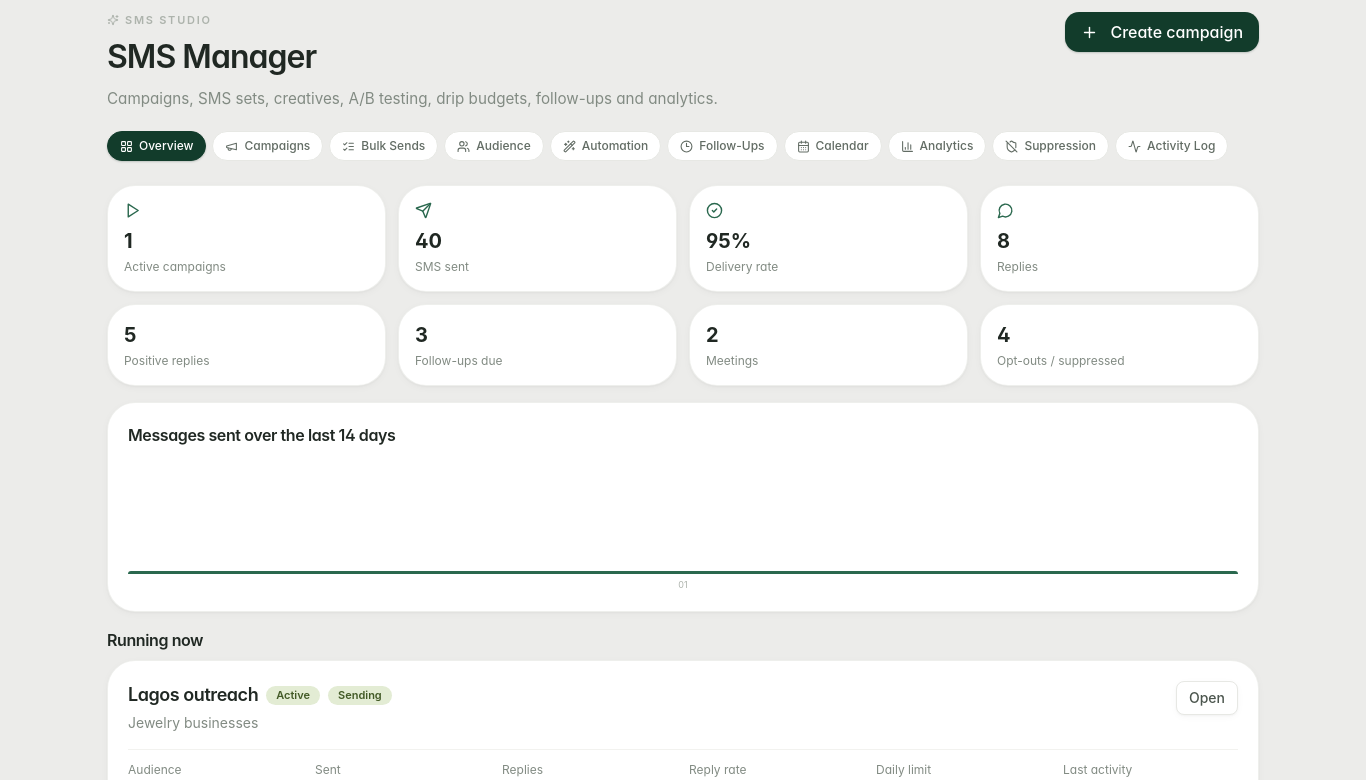
Test case: SMS Manager › navigates to the campaigns section and filters
This screenshot has width=1366, height=780.
Expected: the heading "SMS Manager" is shown, [107, 36, 316, 76]
Click the button "Campaigns" at (268, 146), box [212, 131, 323, 161]
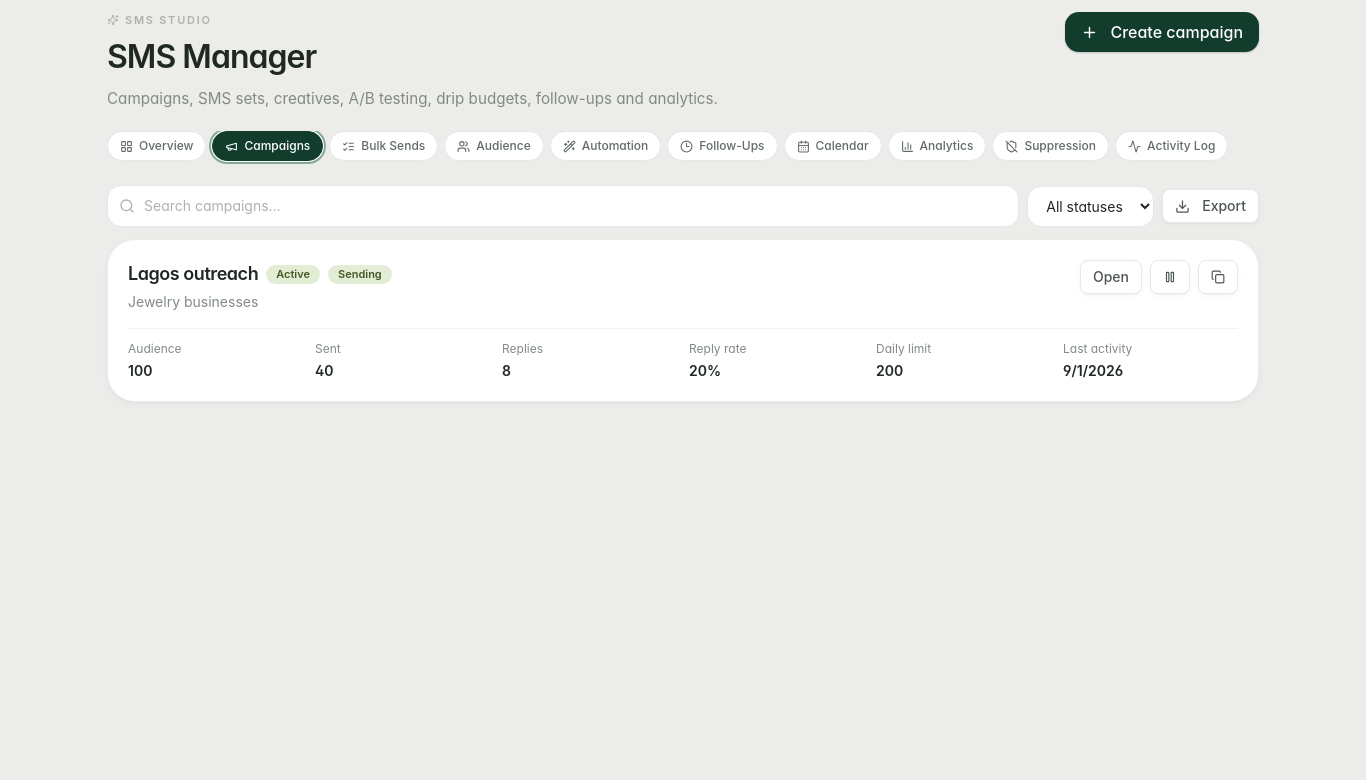
Type "nothing-matches" into the field with placeholder "Search campaigns…" at (563, 206), box [107, 185, 1019, 227]
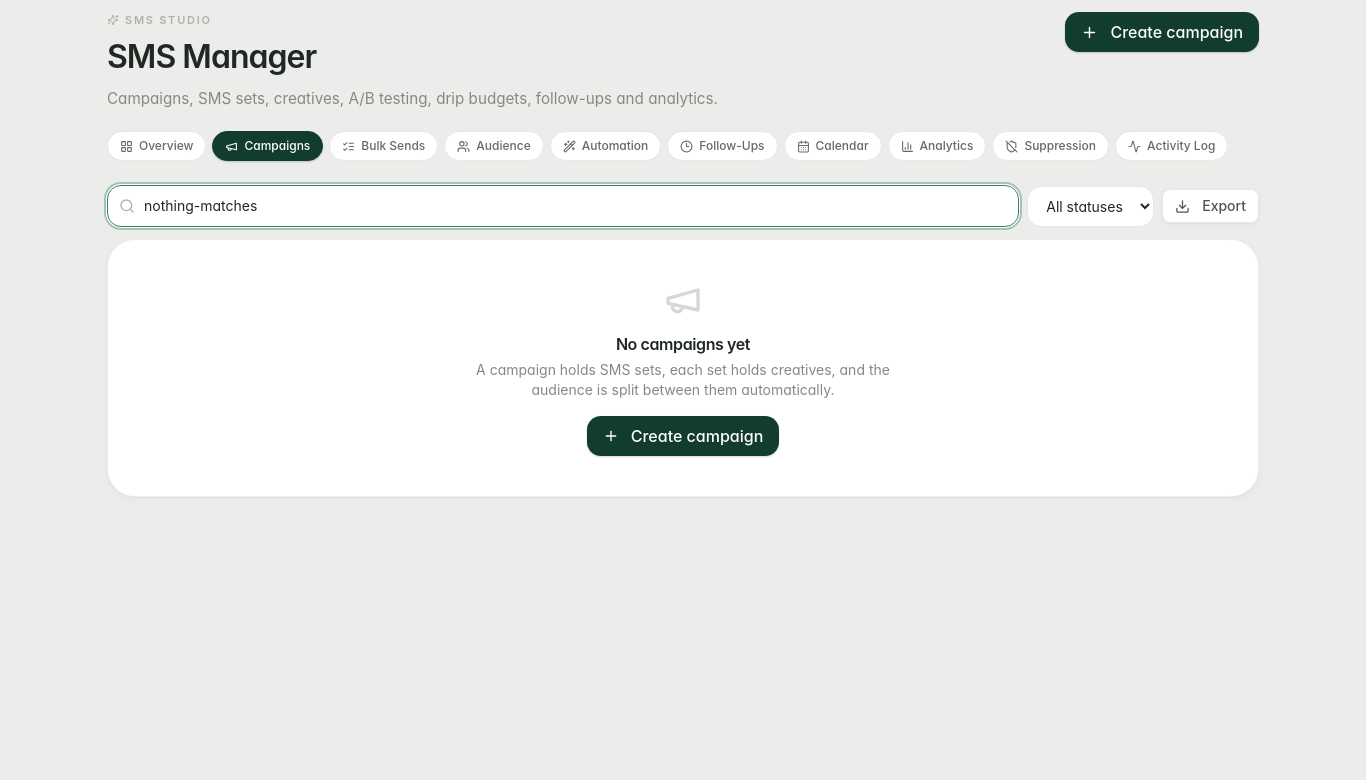
Now the heading "No campaigns yet" is shown, box [616, 334, 750, 354]
